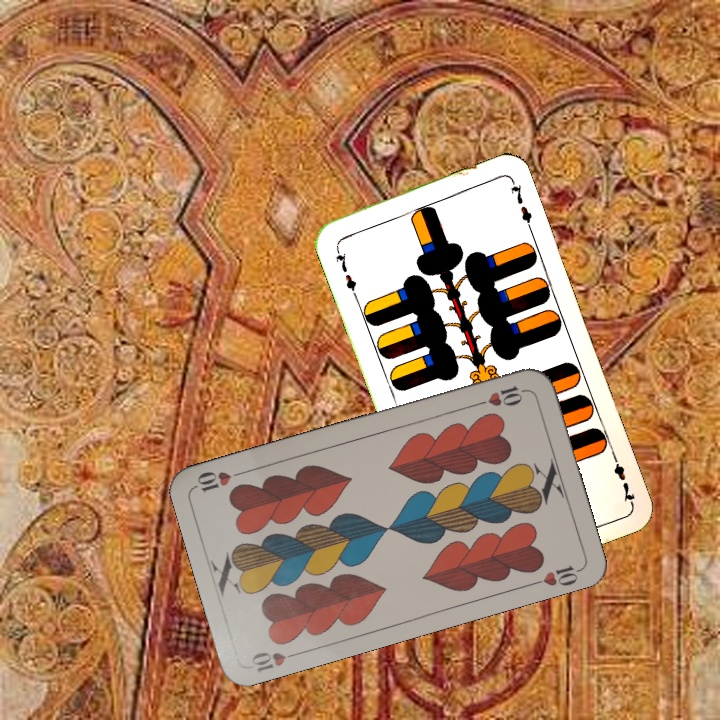E7: (607, 449, 638, 506), (331, 242, 360, 299)
H10: (247, 647, 304, 675), (471, 382, 529, 409)
